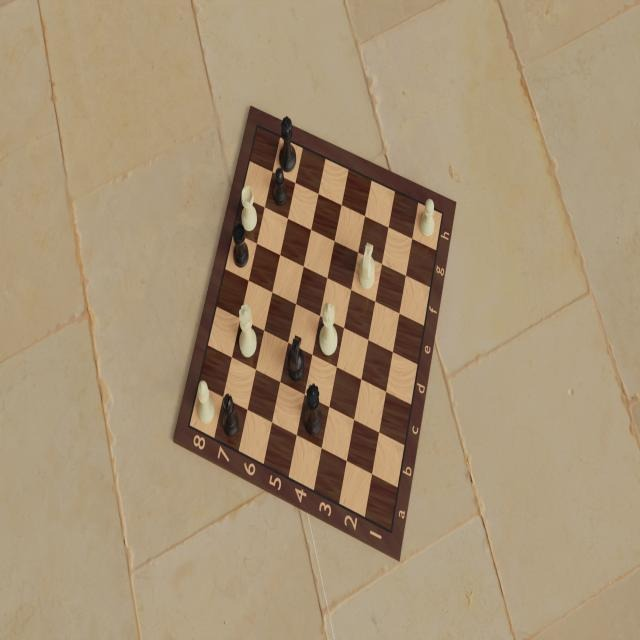black-bishop: (220, 391, 240, 436)
black-king: (280, 114, 299, 174)
black-knight: (286, 330, 306, 382)
black-pawn: (271, 164, 288, 207)
black-queen: (301, 381, 322, 439)
black-rook: (233, 221, 251, 271)
white-bishop: (195, 378, 215, 426)
white-king: (316, 299, 337, 356)
white-knight: (358, 240, 377, 292)
white-pawn: (418, 196, 438, 240)
white-queen: (237, 300, 259, 362)
white-rook: (240, 182, 258, 236)
